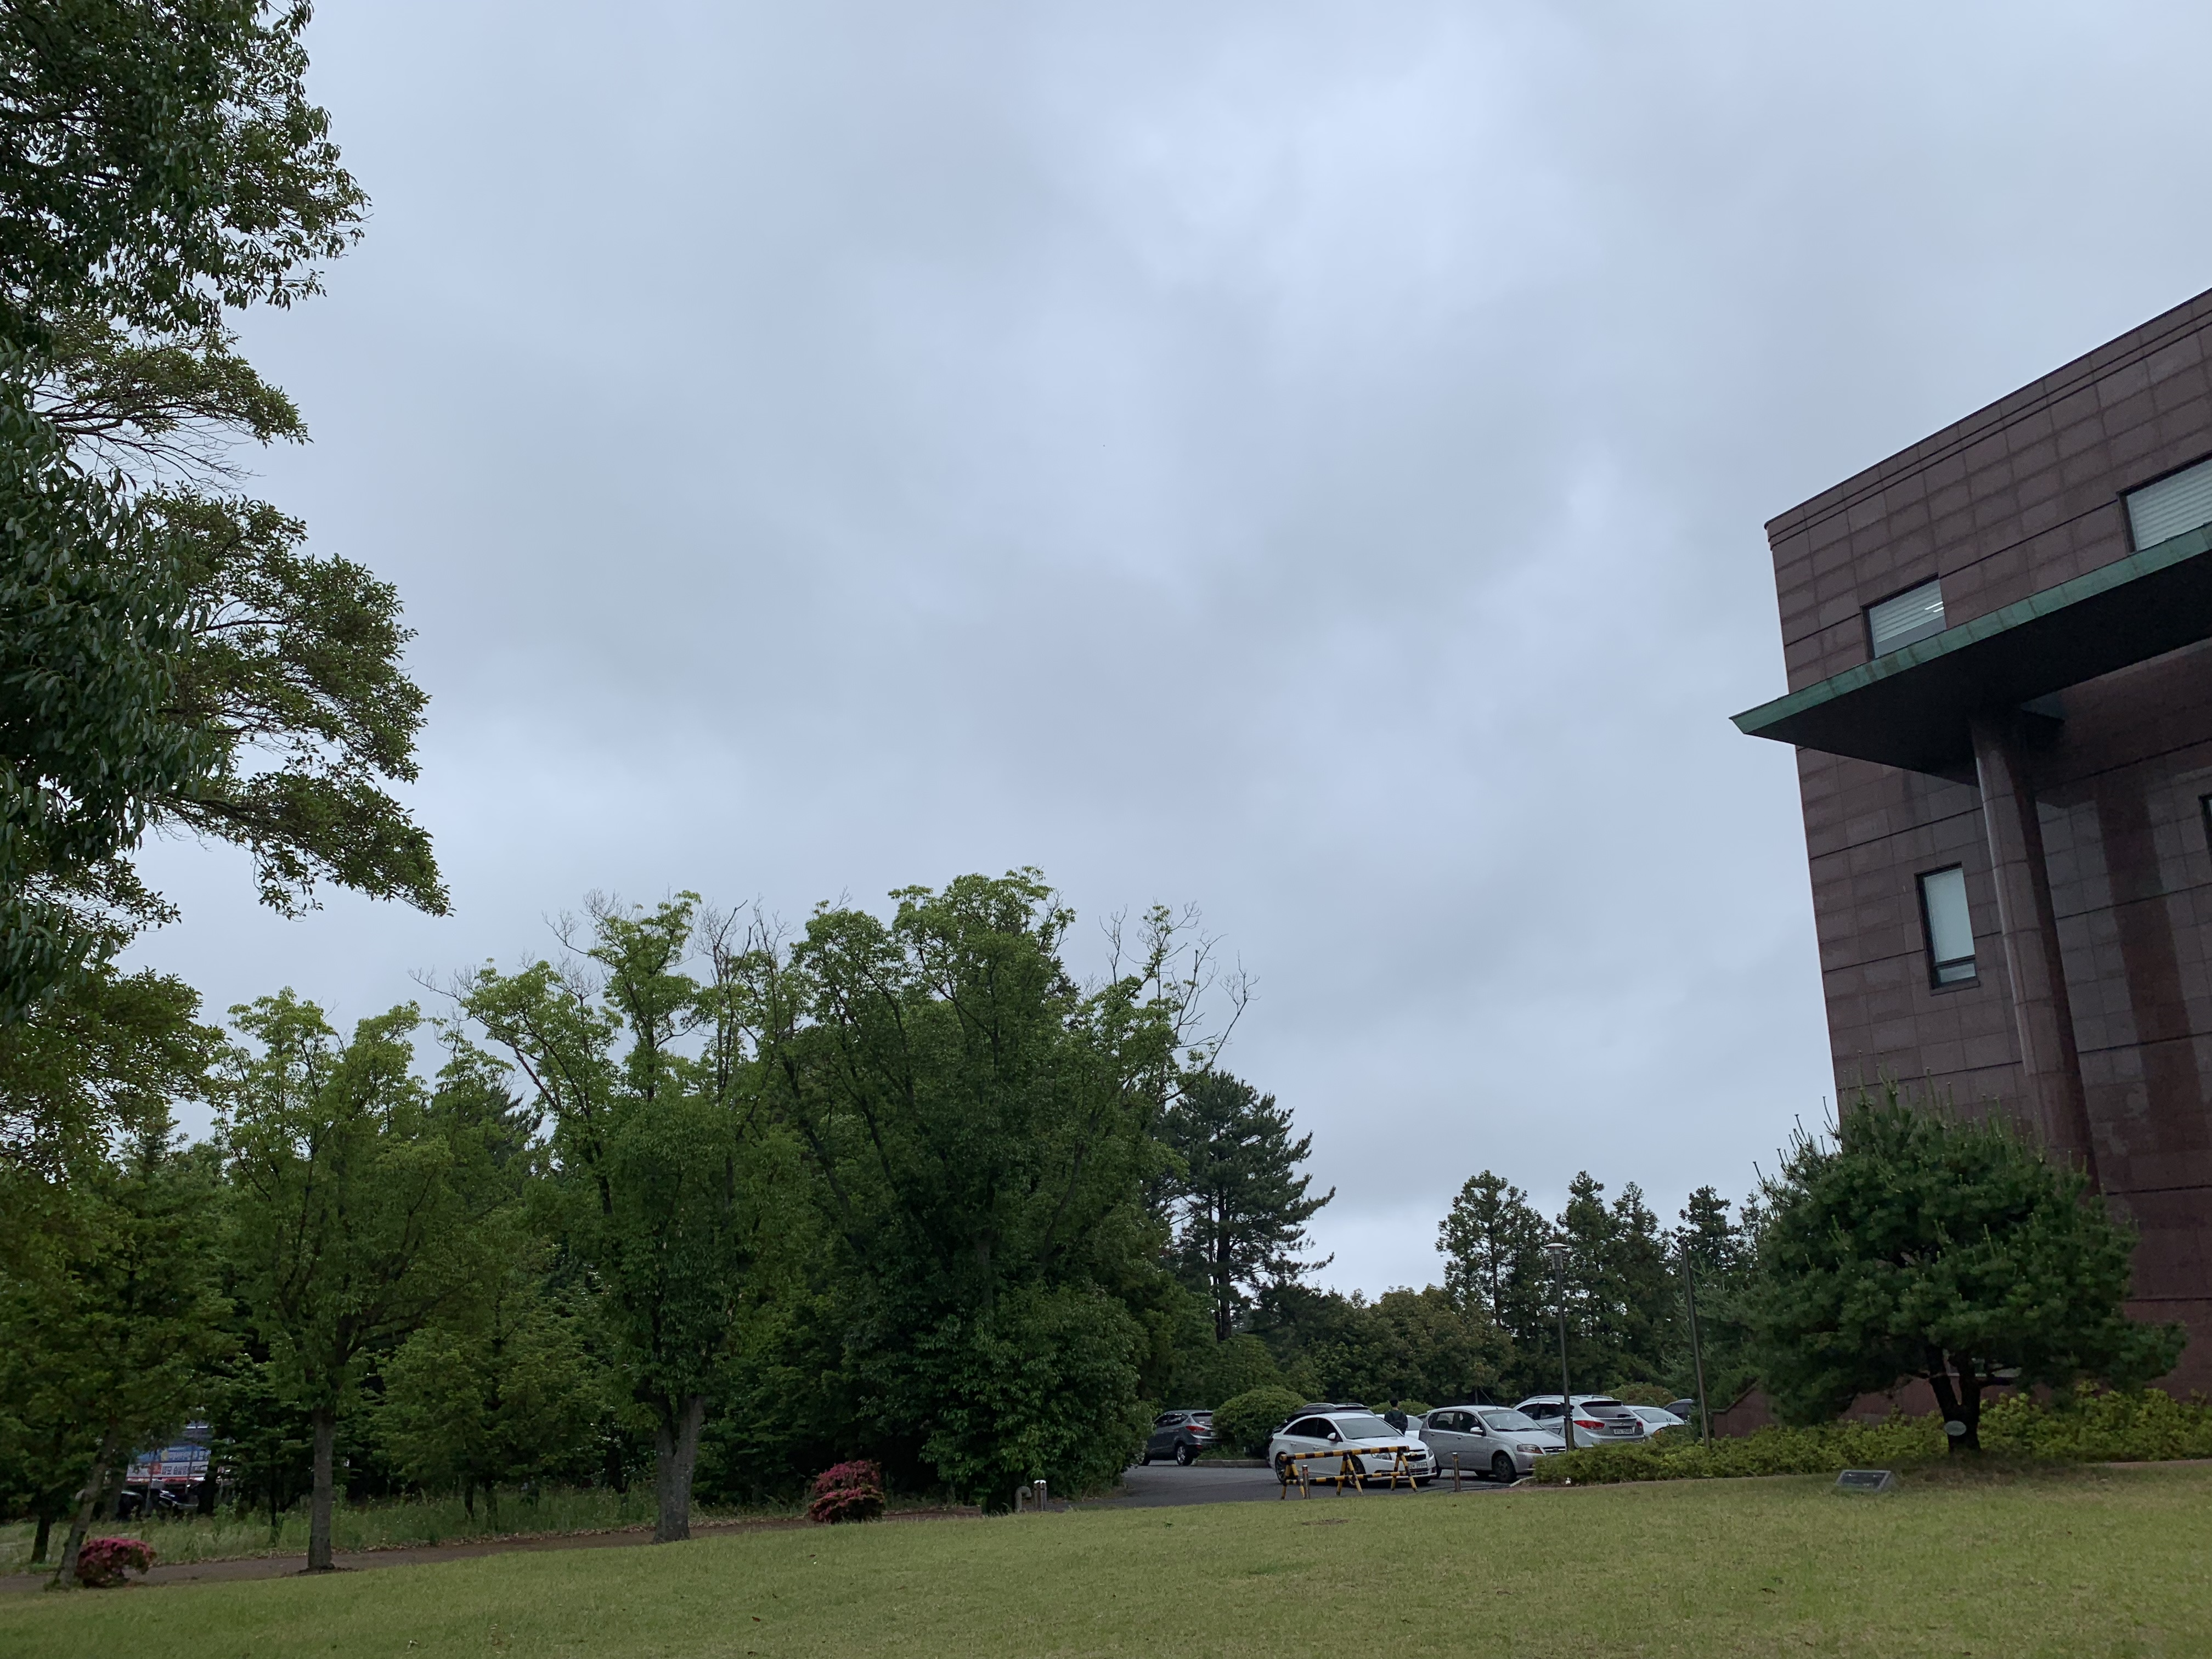Museum: (1730, 242, 2212, 1493)
